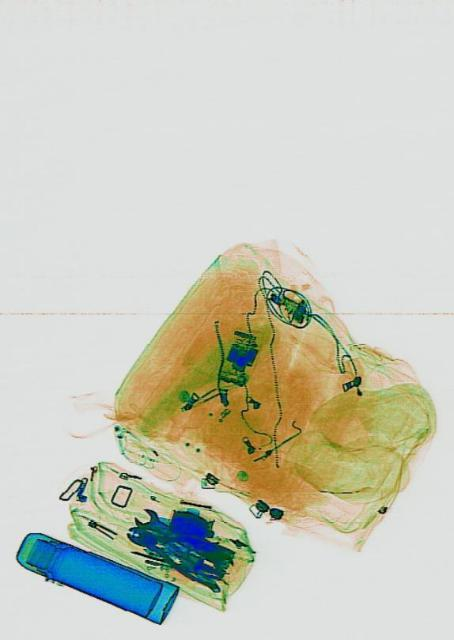Pliers: (122, 506, 228, 592)
Wrench: (132, 502, 212, 558)
